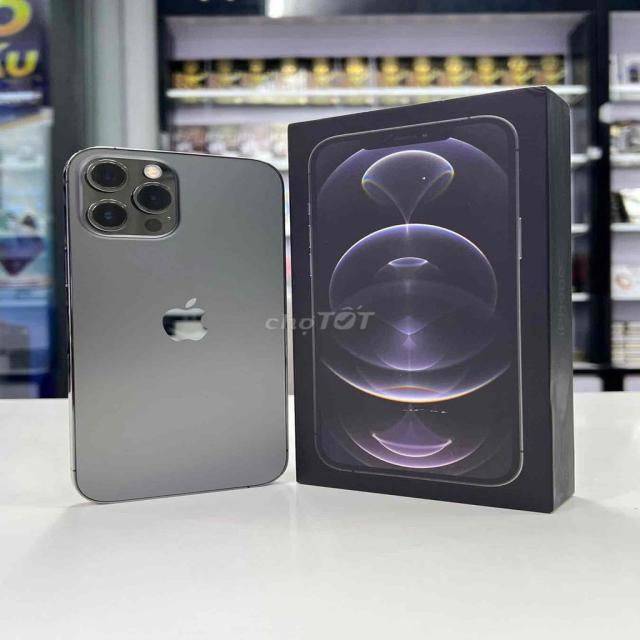gen_12_13: (53, 140, 307, 514)
